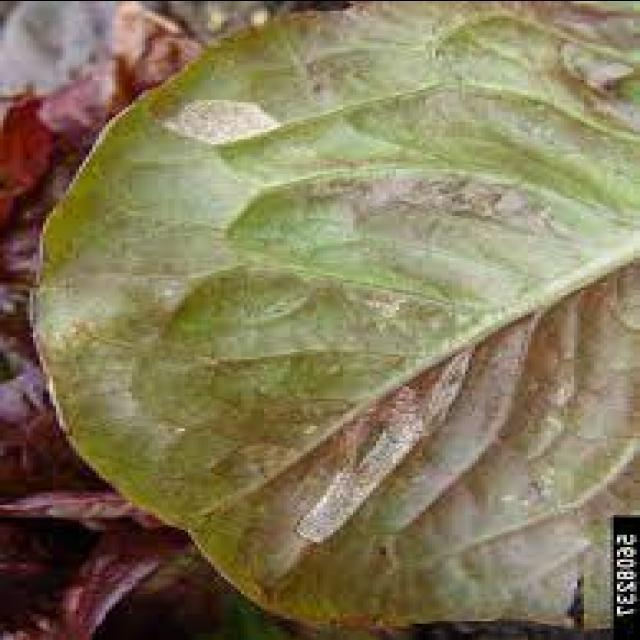Mature: (179, 85, 596, 522)
